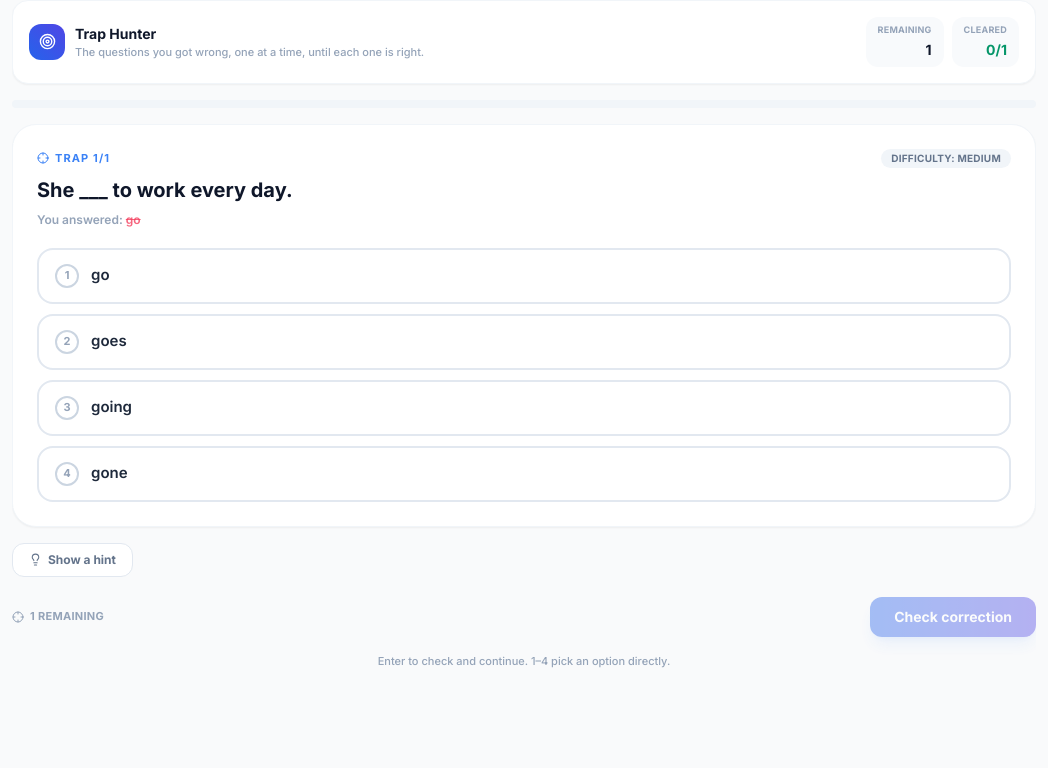
Test case: correcting a trap › clears it, plays the correct sound, and finishes the round
Click the radio button labelled "2 goes".
click(109, 341)  # box x1=37 y1=314 x2=1011 y2=370
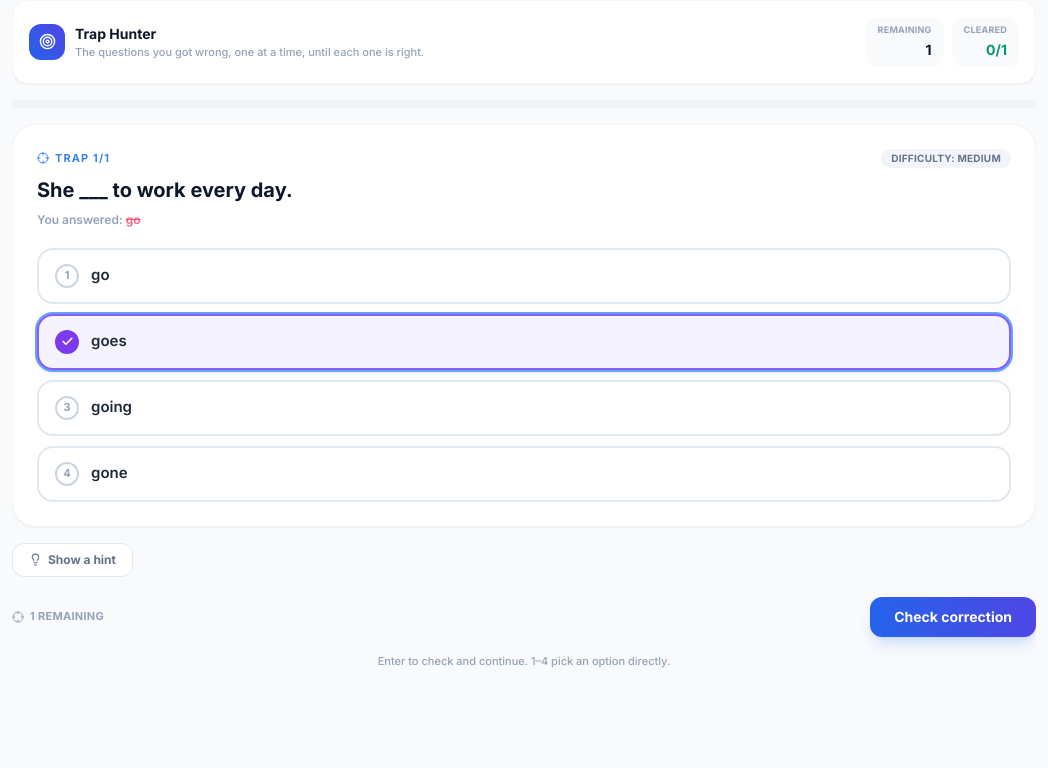
Click the button "Check correction".
click(953, 616)  # box x1=870 y1=596 x2=1036 y2=636
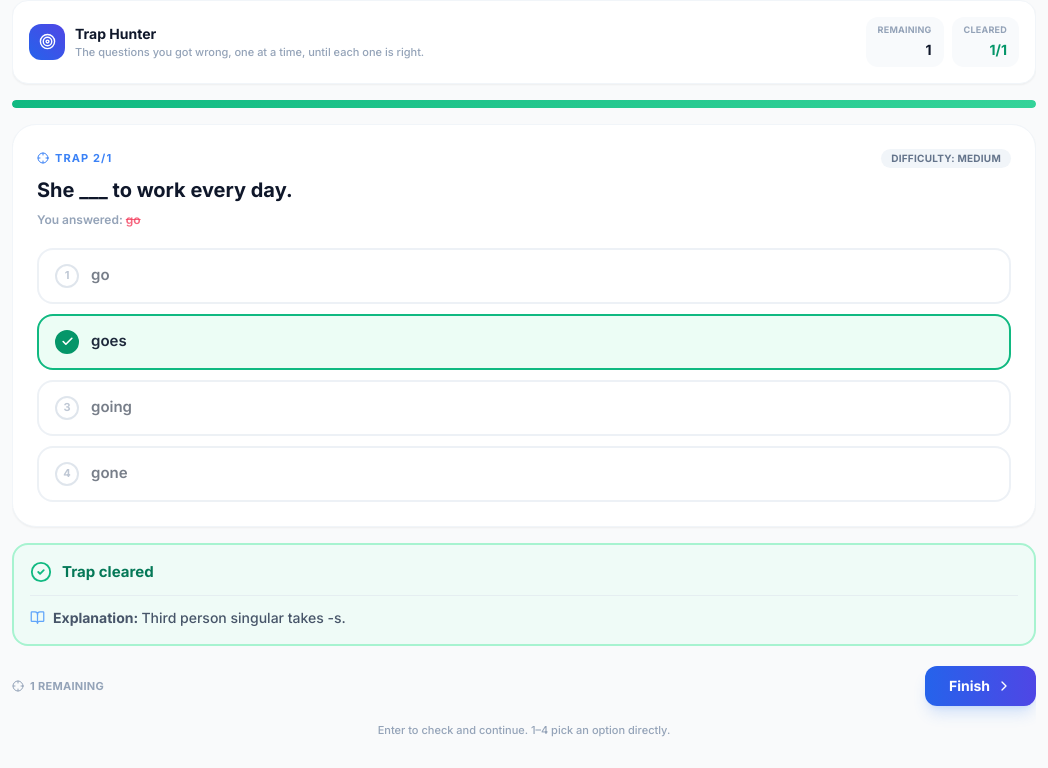
Now the text "Trap cleared" is shown, box x1=62 y1=560 x2=154 y2=583
Click the button "Finish".
click(980, 686)  # box x1=925 y1=666 x2=1036 y2=706
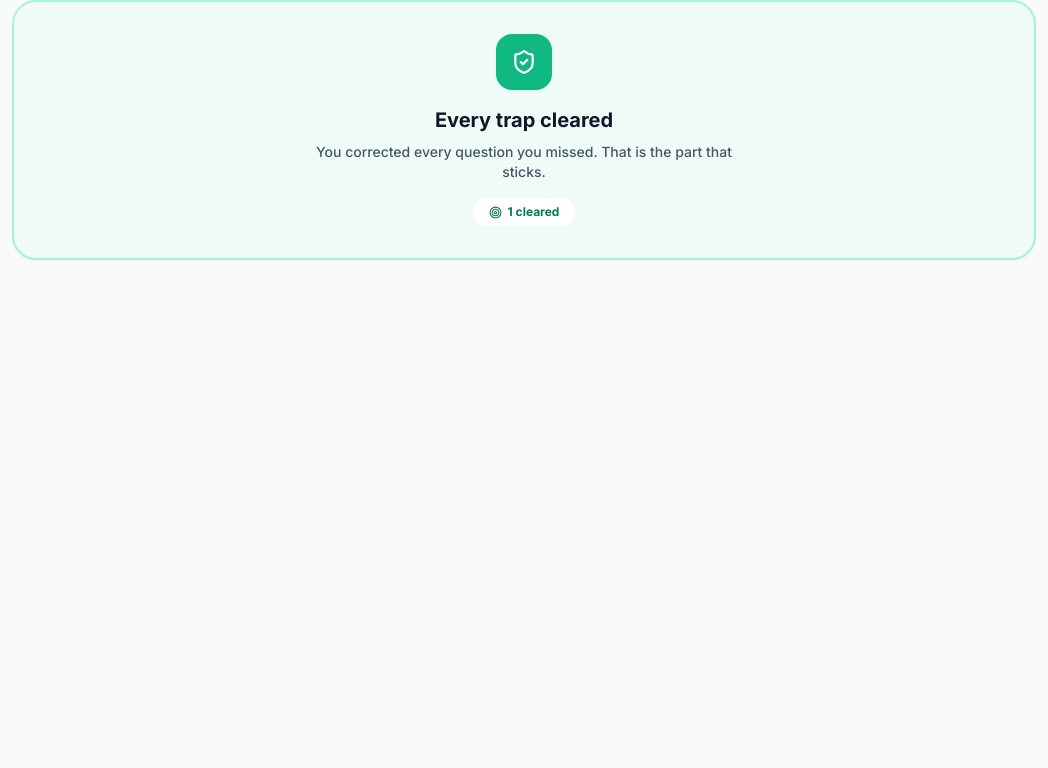
Now the heading "Every trap cleared" is shown, box x1=435 y1=108 x2=613 y2=132
